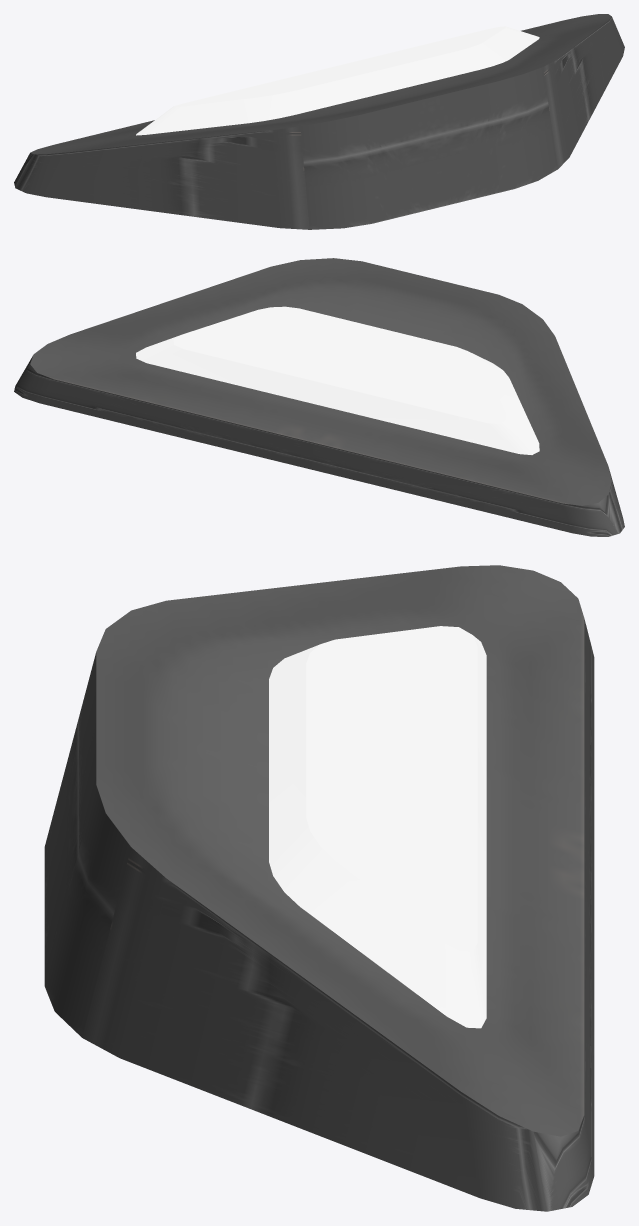
The model's file is quaternius-scifi-light-floor.glb.
3 renders of one model, top to bottom at view 1: azimuth 30°, elevation 25°; view 2: azimuth 150°, elevation 25°; view 3: azimuth 270°, elevation 25°, orthographic. The views are drawn at different scales.
Visible parts, largest first — view 1: Prop_Light_Floor; view 2: Prop_Light_Floor; view 3: Prop_Light_Floor.
Boxes of the visible parts, x1,y1,x2,y2 form: Prop_Light_Floor: [14, 14, 624, 229]; Prop_Light_Floor: [14, 258, 624, 536]; Prop_Light_Floor: [44, 565, 594, 1211].
Size of the model in its own units: 1.33 by 0.209 by 0.5246.
Materials: 2 (1 with a texture image).
